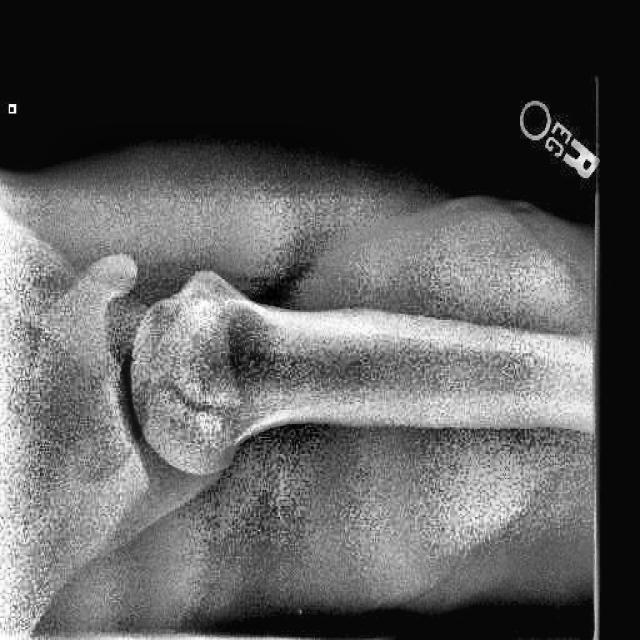forearm fracture: (139, 363, 258, 465)
